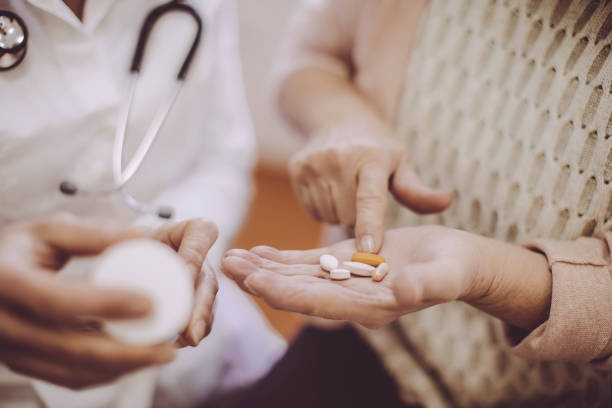pills: (354, 249, 383, 268), (318, 253, 339, 271), (329, 267, 348, 278)
